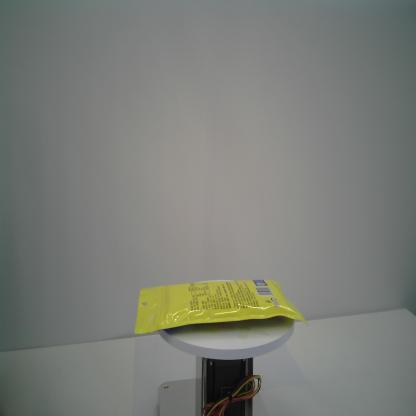Dried Fruit: (134, 278, 310, 336)
